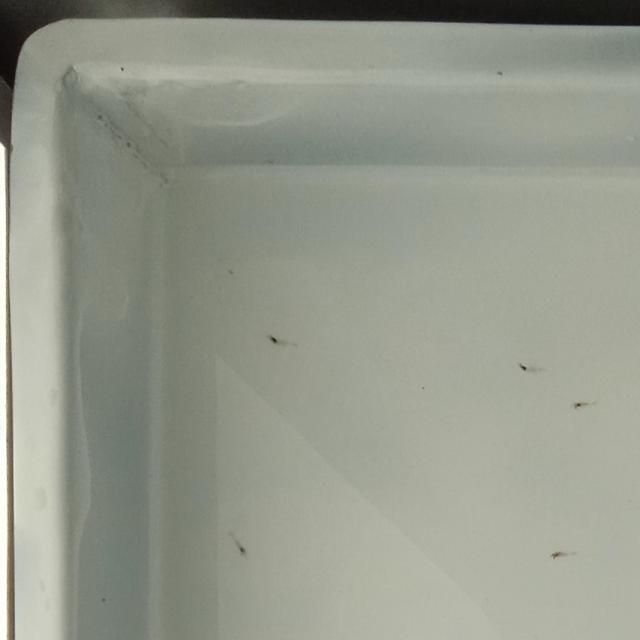shrimp-seed: (232, 542, 252, 558), (265, 330, 282, 348), (515, 359, 531, 376), (548, 548, 564, 562), (571, 397, 584, 412)
